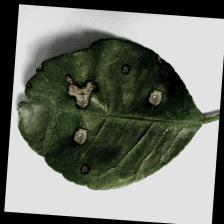canker: (19, 43, 166, 167)
